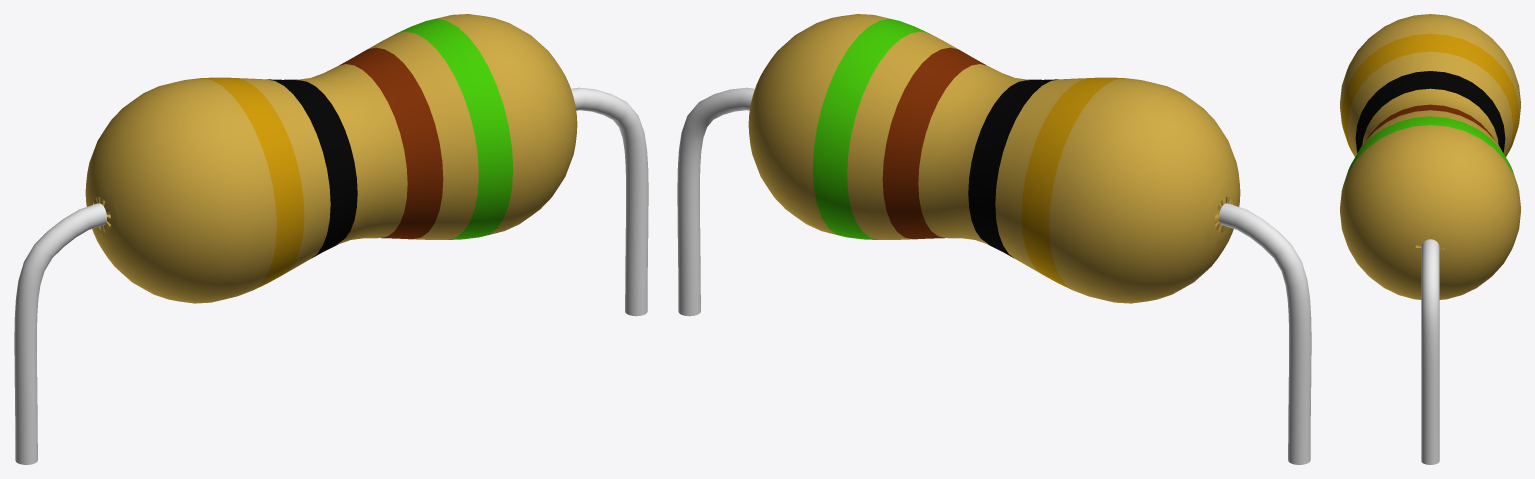
Rendered from resistance.fbx.
The picture shows the model from 3 angles, left to right: view 1: azimuth 30°, elevation 25°; view 2: azimuth 150°, elevation 25°; view 3: azimuth 270°, elevation 25°; orthographic projection. The views are drawn at different scales.
Parts seen in each view (by area): view 1: Lathe, Sweep; view 2: Lathe, Sweep; view 3: Lathe, Sweep.
Part boxes in pixels (box(x1,y1,x2,y2)): Lathe: box(85, 14, 577, 303); Sweep: box(14, 87, 648, 464); Lathe: box(748, 14, 1240, 303); Sweep: box(677, 87, 1311, 464); Lathe: box(1340, 14, 1520, 299); Sweep: box(1421, 239, 1439, 464).
Size of the model in its own units: 1299 by 646 by 399.
